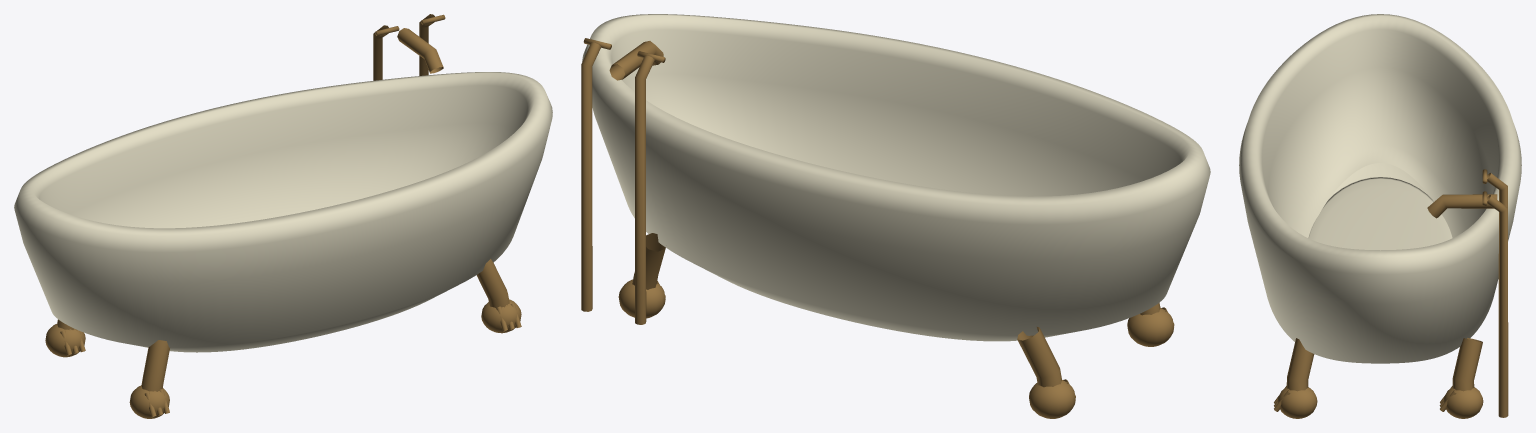
Rendered from bathtub.glb.
The picture shows the model from 3 angles, left to right: view 1: azimuth 30°, elevation 25°; view 2: azimuth 150°, elevation 25°; view 3: azimuth 270°, elevation 25°; orthographic projection. The views are drawn at different scales.
Parts seen in each view (by area): view 1: bathtub__Ivory_porcelain, bathtub__Aged_brass; view 2: bathtub__Ivory_porcelain, bathtub__Aged_brass; view 3: bathtub__Ivory_porcelain, bathtub__Aged_brass.
Part boxes in pixels (<box>): bathtub__Ivory_porcelain: <box>14,72,552,352</box>; bathtub__Aged_brass: <box>45,14,521,418</box>; bathtub__Ivory_porcelain: <box>582,14,1210,341</box>; bathtub__Aged_brass: <box>581,38,1174,418</box>; bathtub__Ivory_porcelain: <box>1239,14,1521,363</box>; bathtub__Aged_brass: <box>1274,169,1508,418</box>.
Size of the model in its own units: 1.92 by 0.8425 by 0.92.
